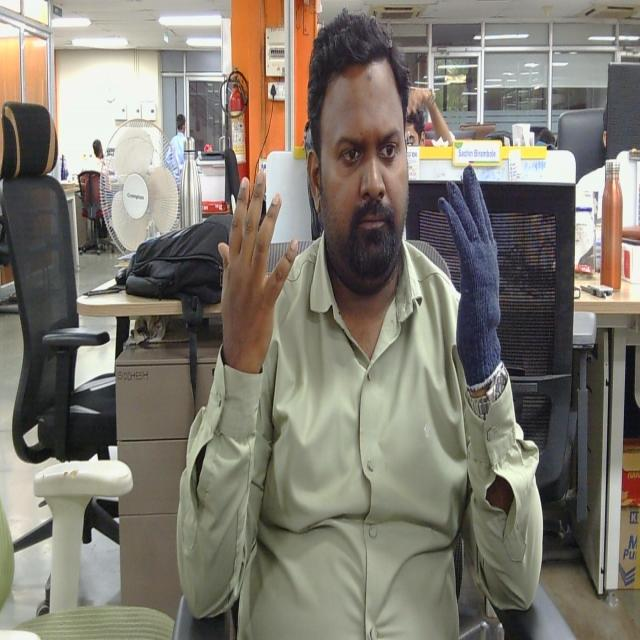Gloves-Detection: (434, 155, 512, 390)
